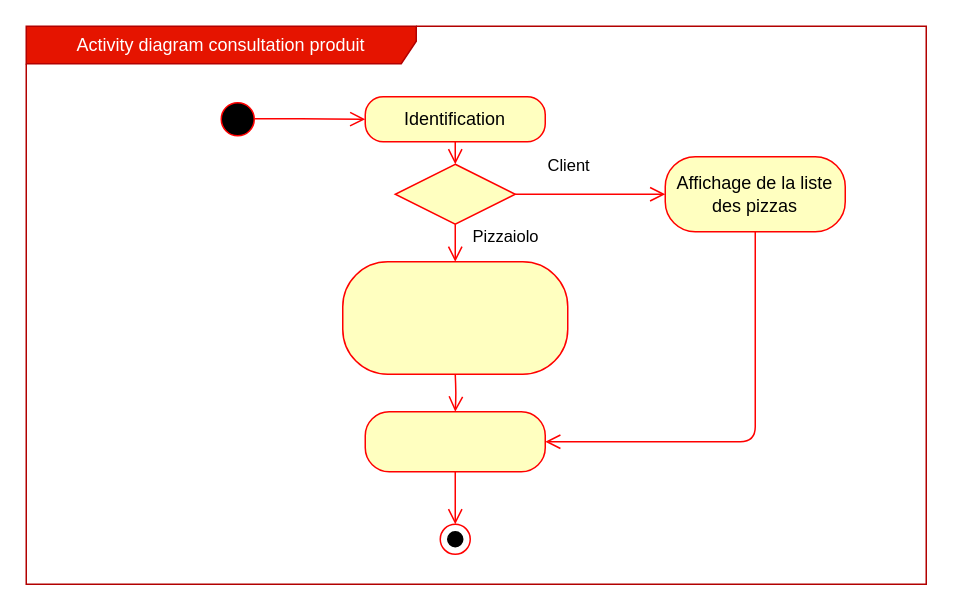
This 953x611 diagram has some shape labels left out. Here are the shapes that lost their labels. From the top down, the box of each, then its label:
(341, 260, 568, 374): Affichage de la liste des pizzas avec le nombre de pizzas faisables
(364, 410, 545, 472): Consulter les ingrédients
